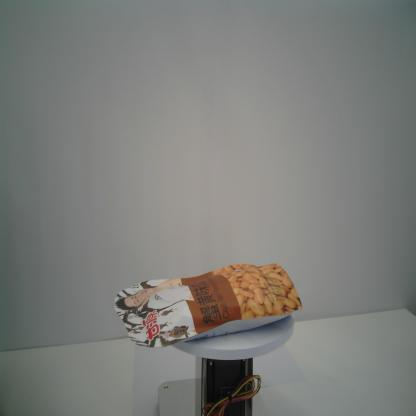Dried Fruit: (113, 262, 303, 349)
